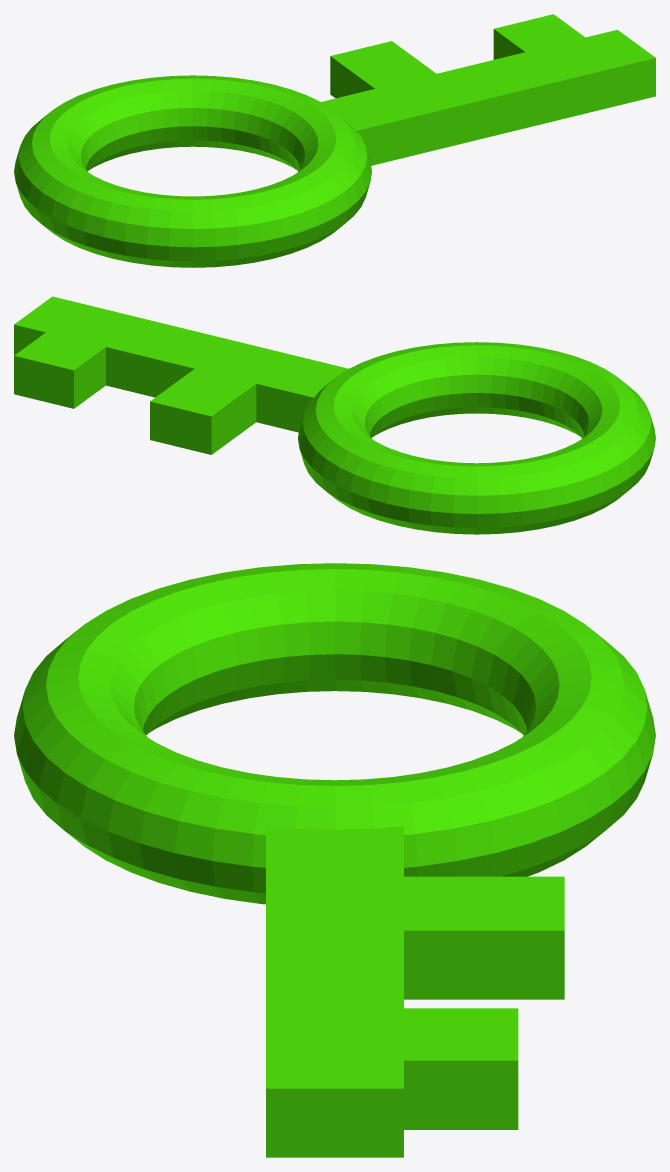
Rendered from key.fbx.
3 renders of one model, top to bottom at view 1: azimuth 30°, elevation 25°; view 2: azimuth 150°, elevation 25°; view 3: azimuth 270°, elevation 25°, orthographic. The views are drawn at different scales.
Visible parts, largest first — view 1: Torus; view 2: Torus; view 3: Torus.
Part boxes in pixels (<box>): Torus: <box>14,14,655,267</box>; Torus: <box>14,296,655,534</box>; Torus: <box>14,563,655,1157</box>.
Bounding box in the file's own units: 483 × 50 × 250.
